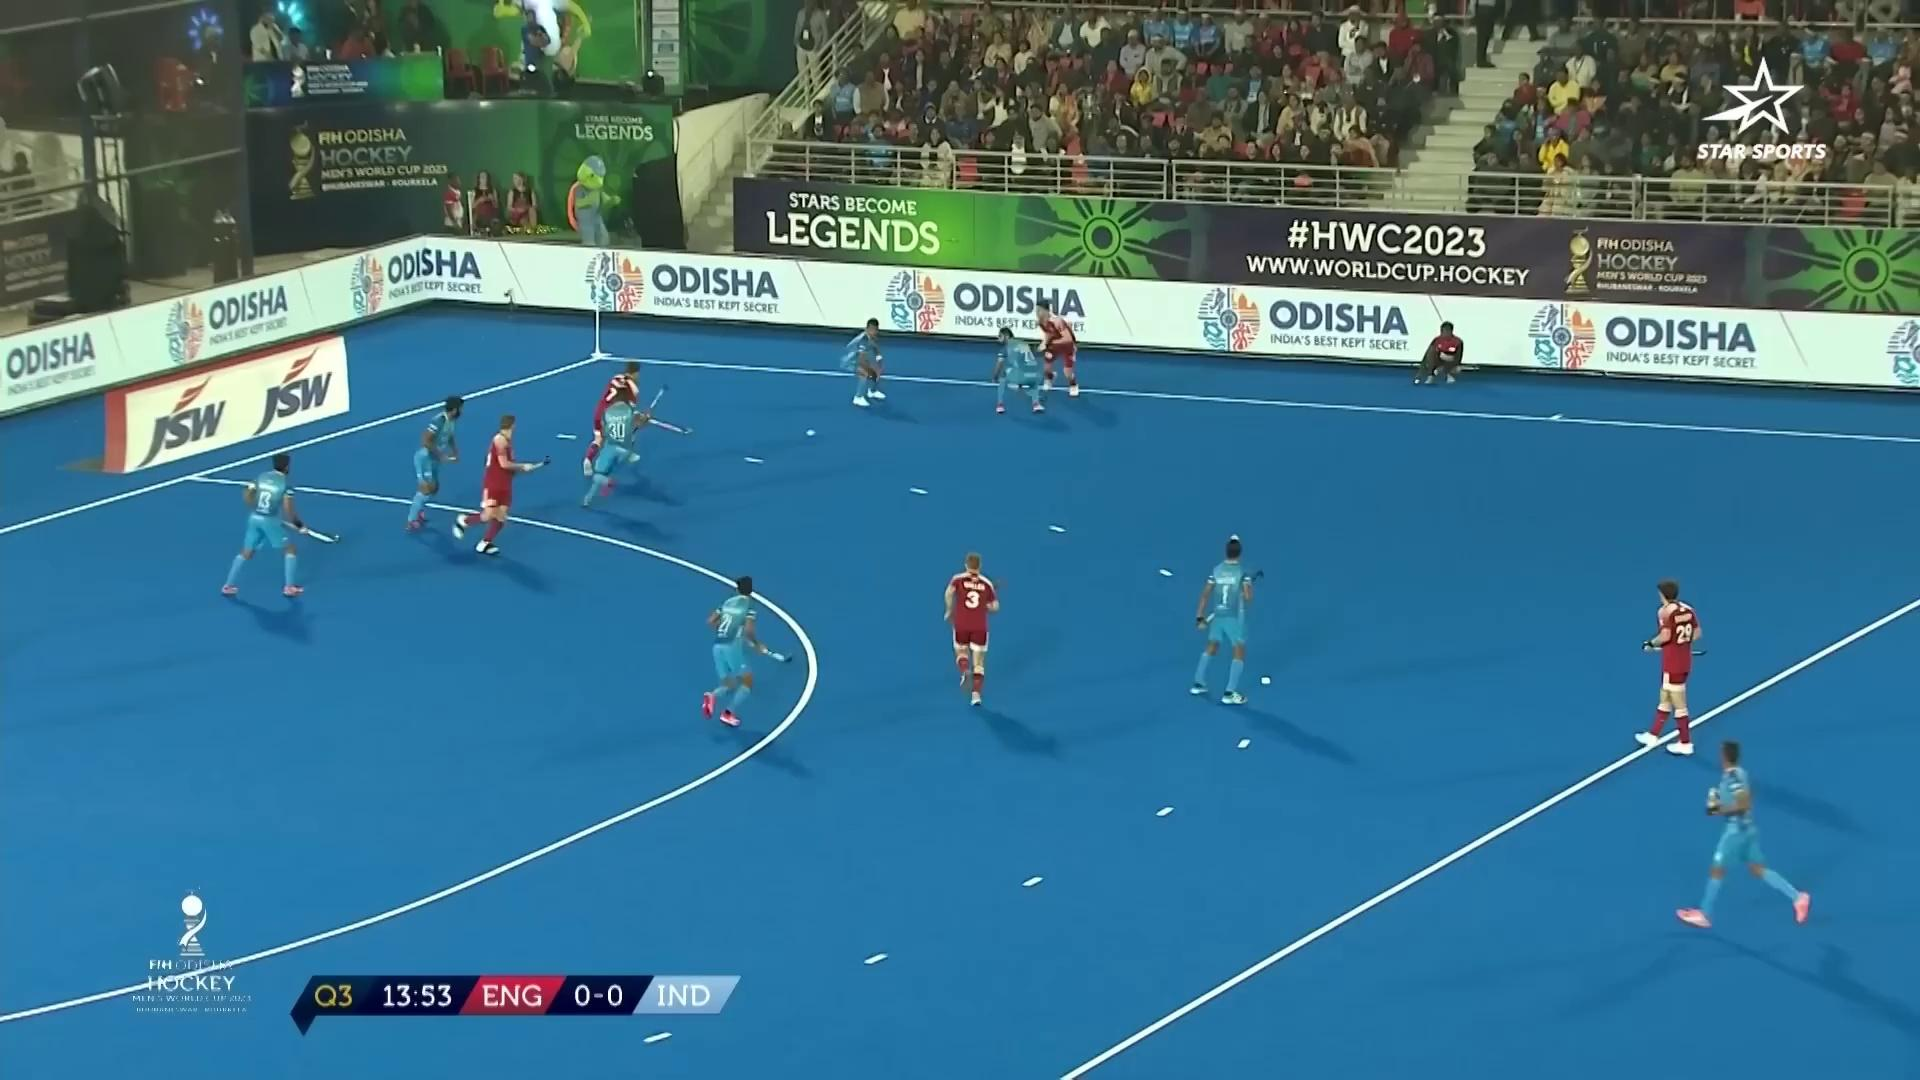ball: (800, 425, 819, 439)
